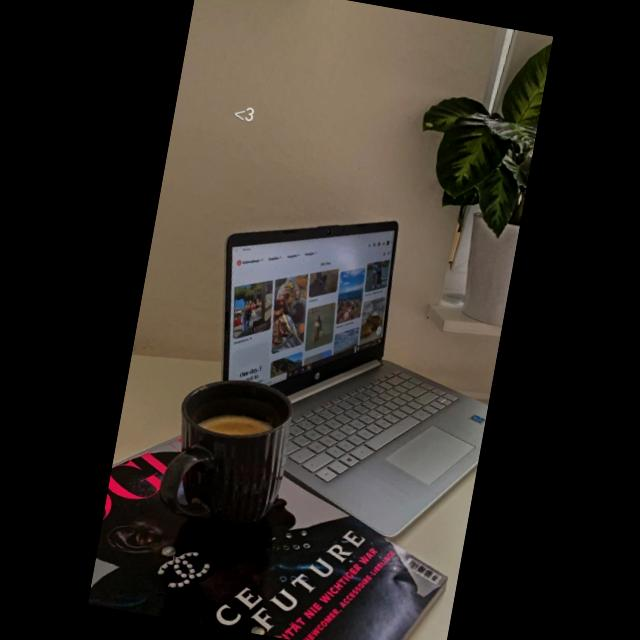laptop: (222, 221, 487, 536)
